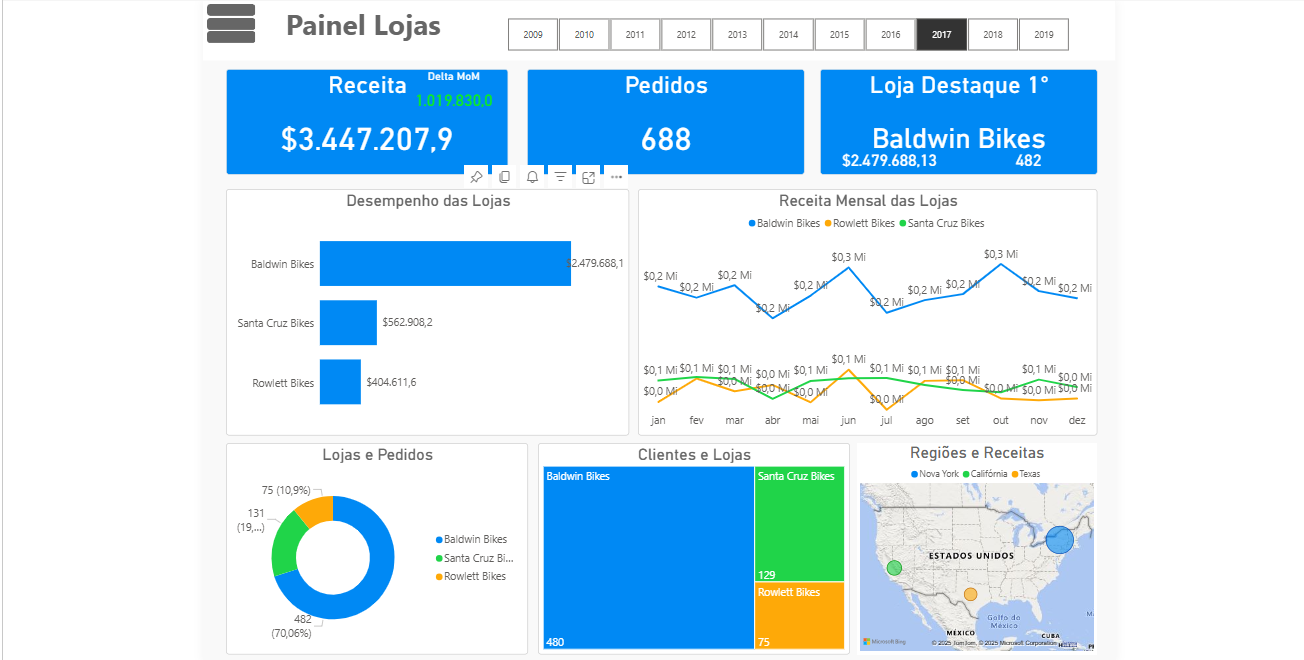

The dashboard page shown, as its layout file describes it:
{"tool":"powerbi","page":{"name":"Lojas","canvas":[1380,1000],"ordinal":2},"visuals":[{"type":"card","title":"Receita","fields":{"Values":["Medidas.Receita"]},"box":[35,103.3,426.7,160],"z":0},{"type":"card","title":"Pedidos","fields":{"Values":["Medidas.Pedidos"]},"box":[490.8,103.3,420,160],"z":1000},{"type":"card","title":"Loja Destaque 1°","fields":{"Values":["Min(Store.Name)"]},"box":[933.3,103.3,420,160],"z":2000},{"type":"card","fields":{"Values":["Medidas.Receita Loja Top 1"]},"box":[933.3,218.3,210,45],"z":3000},{"type":"card","fields":{"Values":["Medidas.Pedidos Loja Top 1"]},"box":[1143.3,218.3,210,45],"z":4000},{"type":"clusteredBarChart","title":"Desempenho das Lojas","fields":{"Category":["Store.Name"],"Y":["Medidas.Receita"]},"box":[35,285,610,373.3],"z":5000},{"type":"lineChart","title":"Receita Mensal das Lojas","fields":{"Category":["Calendario.Mes Abrev"],"Series":["Store.Name"],"Y":["Medidas.Receita"]},"box":[658.3,285,695,373.3],"z":6000},{"type":"donutChart","title":"Lojas e Pedidos","fields":{"Y":["Medidas.Pedidos"],"Category":["Store.Name"]},"box":[35,668.3,456.7,320],"z":7000},{"type":"treemap","title":"Clientes e Lojas","fields":{"Group":["Store.Name"],"Values":["Medidas.Clientes"]},"box":[506.7,668.3,471.7,320],"z":8000},{"type":"map","title":"Regiões e Receitas","fields":{"Size":["Medidas.Receita"],"Category":["Store.Região"],"Series":["Store.Região"]},"box":[990,668.3,363.3,320],"z":9000},{"type":"textbox","box":[0,0,1380,90],"z":10000},{"type":"slicer","fields":{"Values":["Calendario.Ano"]},"box":[435,20,898.3,61.7],"z":11000},{"type":"card","title":"Delta MoM","fields":{"Values":["Medidas Temporais.Receita MoM Delta"]},"box":[297.7,102.3,162.8,74.4],"z":12000},{"type":"shape","box":[6.7,5,73.3,18],"z":14000},{"type":"shape","box":[6.7,25,73.3,18.3],"z":15000},{"type":"shape","box":[6.7,45,73.3,18.3],"z":16000},{"type":"actionButton","box":[0,0,91.7,73.3],"z":17000}]}

Visuals, with their boxes on the page's 1380x1000 design canvas (x1, y1, x2, y2). These are canvas units, not pixel positions in the 1304x660 screenshot, which may show the page scaled, cropped or inside an application window:
"Receita" card: (35,103,462,263)
"Pedidos" card: (491,103,911,263)
"Loja Destaque 1°" card: (933,103,1353,263)
card - Medidas.Receita Loja Top 1: (933,218,1143,263)
card - Medidas.Pedidos Loja Top 1: (1143,218,1353,263)
"Desempenho das Lojas" clusteredBarChart: (35,285,645,658)
"Receita Mensal das Lojas" lineChart: (658,285,1353,658)
"Lojas e Pedidos" donutChart: (35,668,492,988)
"Clientes e Lojas" treemap: (507,668,978,988)
"Regiões e Receitas" map: (990,668,1353,988)
textbox: (0,0,1380,90)
slicer - Calendario.Ano: (435,20,1333,82)
"Delta MoM" card: (298,102,460,177)
shape: (7,5,80,23)
shape: (7,25,80,43)
shape: (7,45,80,63)
actionButton: (0,0,92,73)
